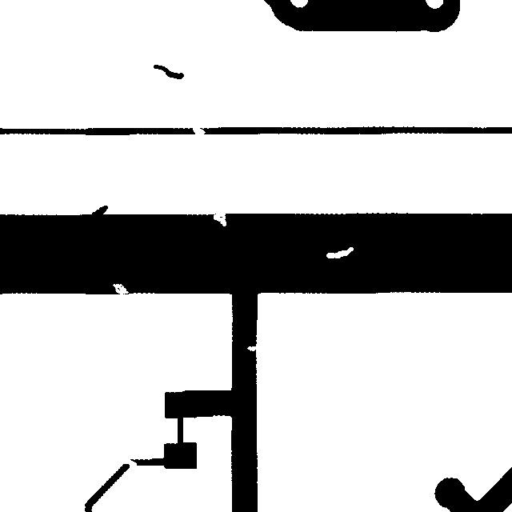copper: (146, 57, 191, 86)
mousebite: (206, 202, 234, 234), (105, 276, 136, 302), (239, 338, 266, 358)
open: (185, 117, 213, 145), (116, 449, 144, 477)
pin-hole: (318, 239, 361, 266)
short: (168, 406, 190, 455)
spur: (82, 198, 115, 226)
